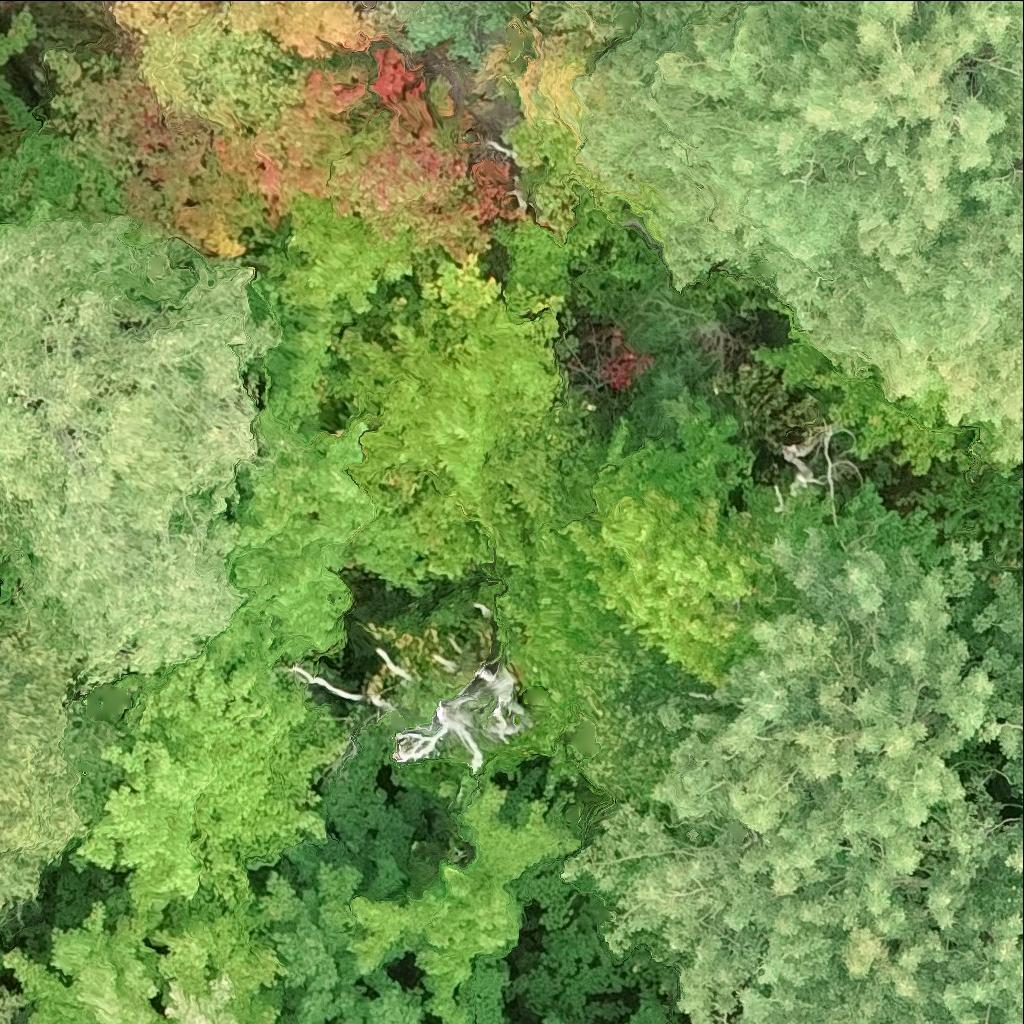crown: (567, 530, 1023, 1023), (490, 415, 963, 784), (321, 185, 641, 617), (0, 219, 278, 682), (215, 196, 417, 669), (81, 618, 345, 910), (804, 162, 1023, 464), (238, 48, 524, 267), (355, 762, 580, 1023), (45, 51, 265, 262), (5, 870, 290, 1023), (758, 332, 999, 479), (510, 34, 661, 241), (0, 627, 93, 919), (137, 22, 299, 128), (108, 0, 384, 56), (392, 667, 523, 775), (392, 0, 532, 63), (560, 0, 639, 37), (0, 986, 19, 1023)
